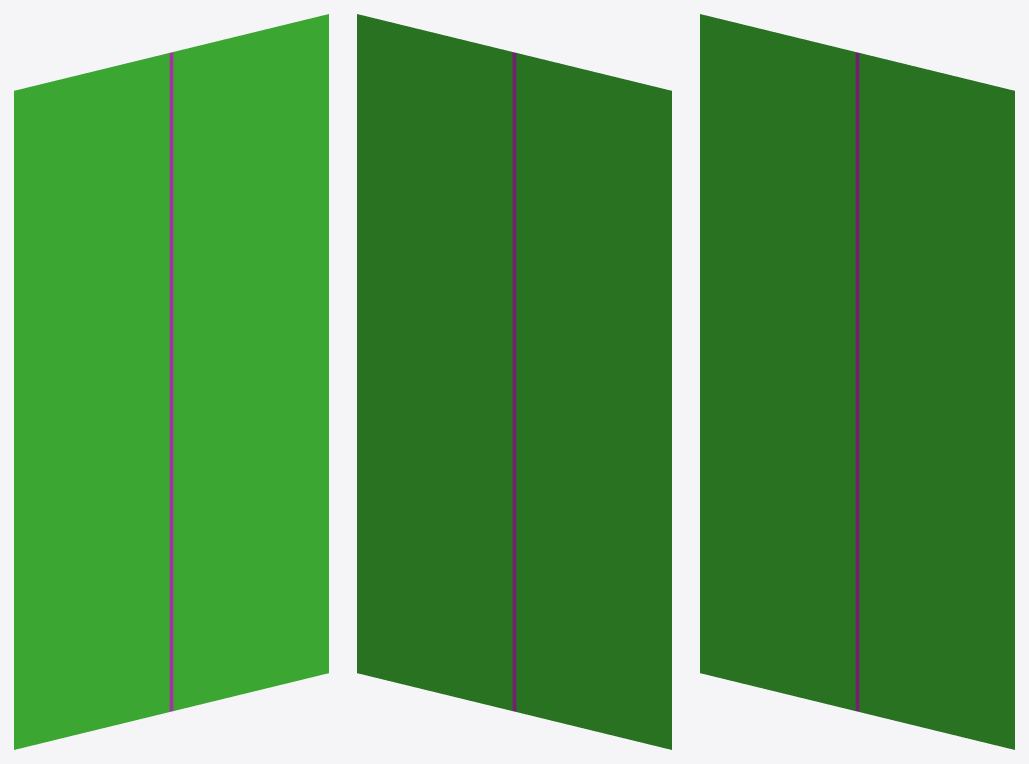
Rendered from Wall_44_B.fbx.
3 renders of one model, left to right at view 1: azimuth 30°, elevation 25°; view 2: azimuth 150°, elevation 25°; view 3: azimuth 330°, elevation 25°, orthographic.
Parts seen in each view (by area): view 1: Wall_44_B; view 2: Wall_44_B; view 3: Wall_44_B.
Boxes of the visible parts, box(x1,y1,x2,y2) form: Wall_44_B: box(14, 14, 328, 749); Wall_44_B: box(357, 14, 671, 749); Wall_44_B: box(700, 14, 1014, 749).
Size of the model in its own units: 229 by 457 by 0.
